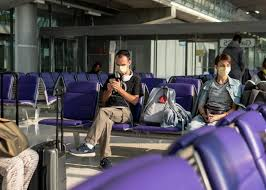mask: (112, 49, 131, 75), (215, 53, 232, 78)
